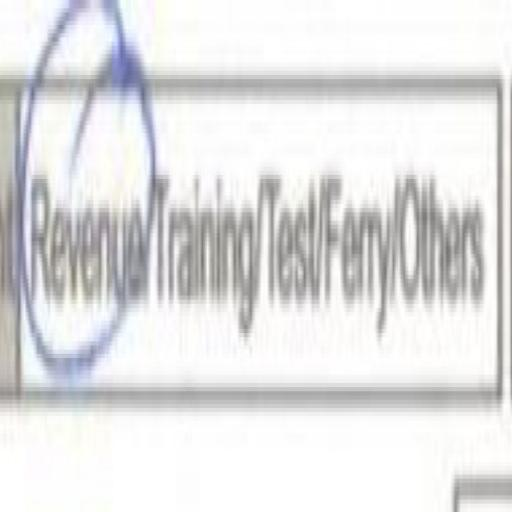check: (20, 0, 155, 495)
